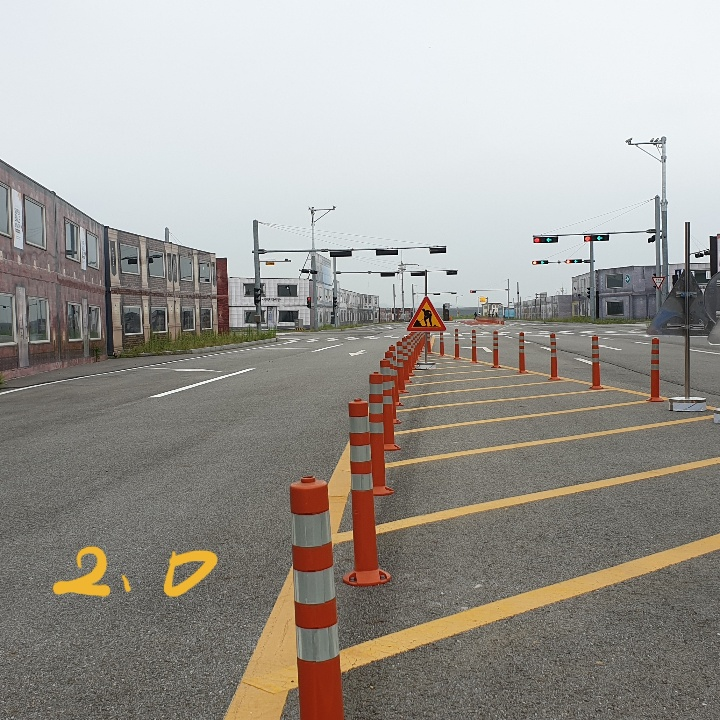const: (409, 301, 442, 331)
